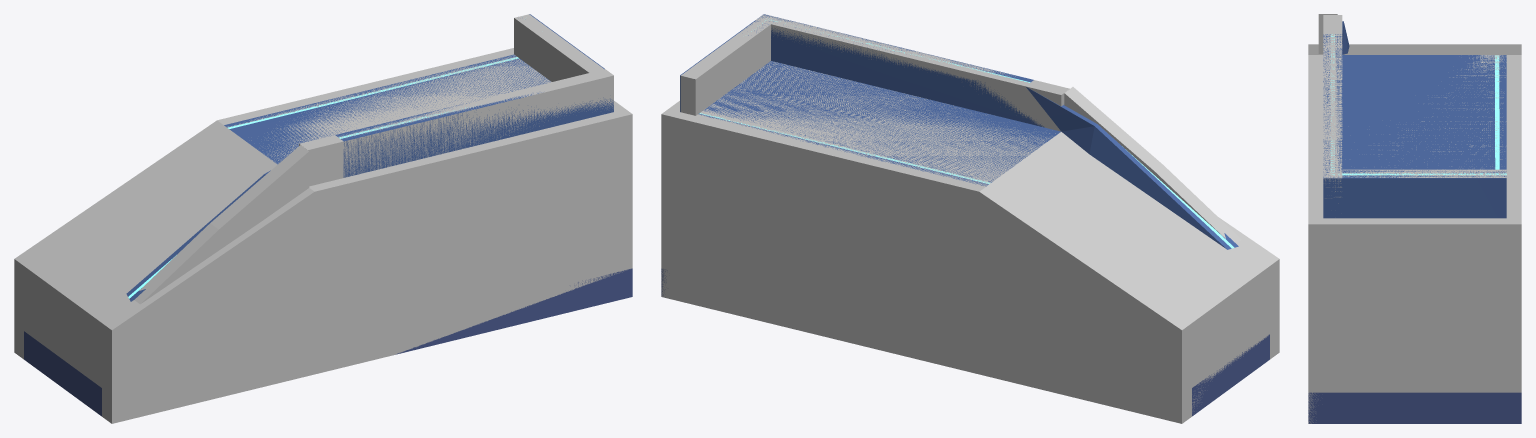
File: SM_Trash.fbx
The picture shows the model from 3 angles, left to right: view 1: azimuth 30°, elevation 25°; view 2: azimuth 150°, elevation 25°; view 3: azimuth 270°, elevation 25°; orthographic projection. The views are drawn at different scales.
Visible parts, largest first — view 1: SM_Trash_ConvexHulls, SM_Trash; view 2: SM_Trash_ConvexHulls, SM_Trash; view 3: SM_Trash_ConvexHulls, SM_Trash.
Boxes of the visible parts, left/top/right/bottom form: SM_Trash_ConvexHulls: left=14, top=14, right=632, bottom=423; SM_Trash: left=24, top=14, right=632, bottom=416; SM_Trash_ConvexHulls: left=661, top=14, right=1279, bottom=423; SM_Trash: left=661, top=14, right=1269, bottom=416; SM_Trash_ConvexHulls: left=1308, top=14, right=1521, bottom=423; SM_Trash: left=1308, top=21, right=1521, bottom=423.
Size of the model in its own units: 895 by 290 by 361.
Materials: 2 (1 with a texture image).
